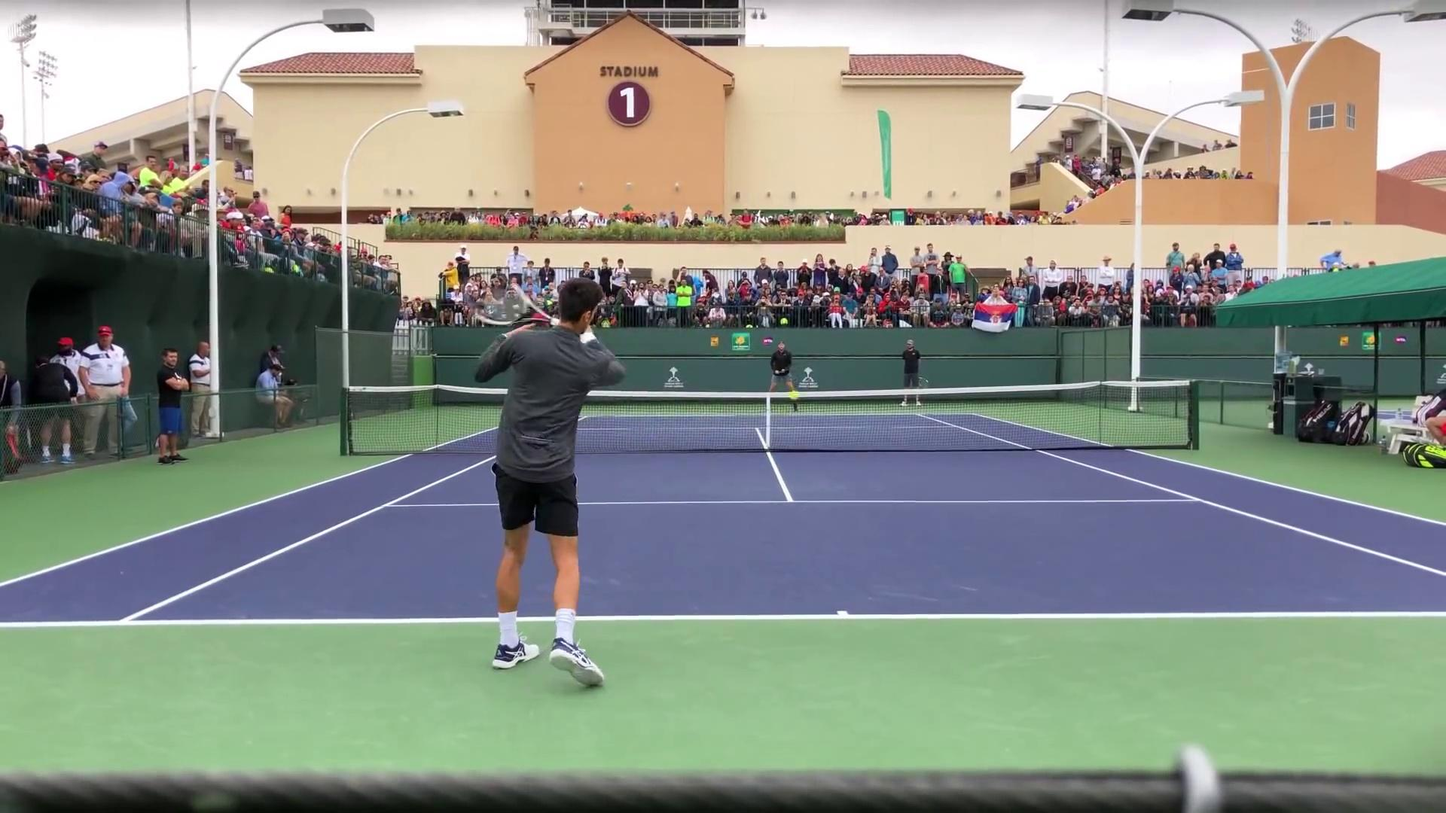ball: (790, 389, 804, 400)
